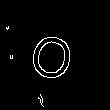O_N: (28, 20, 80, 80)
